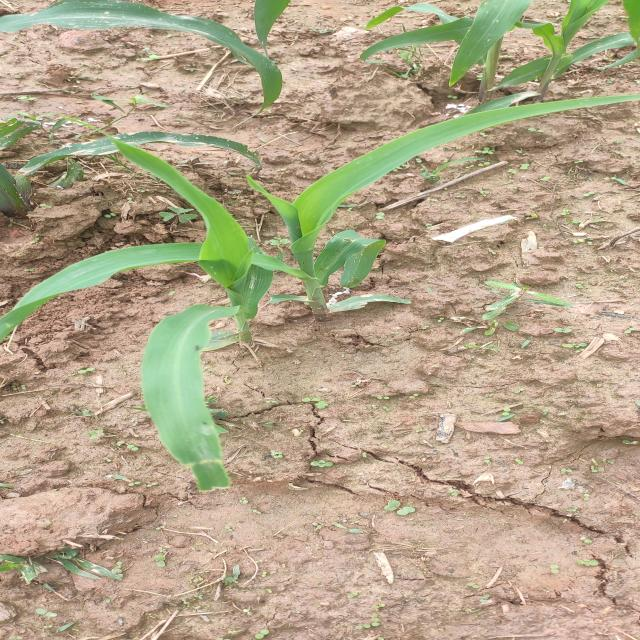maize: (56, 126, 430, 486), (24, 0, 354, 114), (368, 0, 640, 90)
